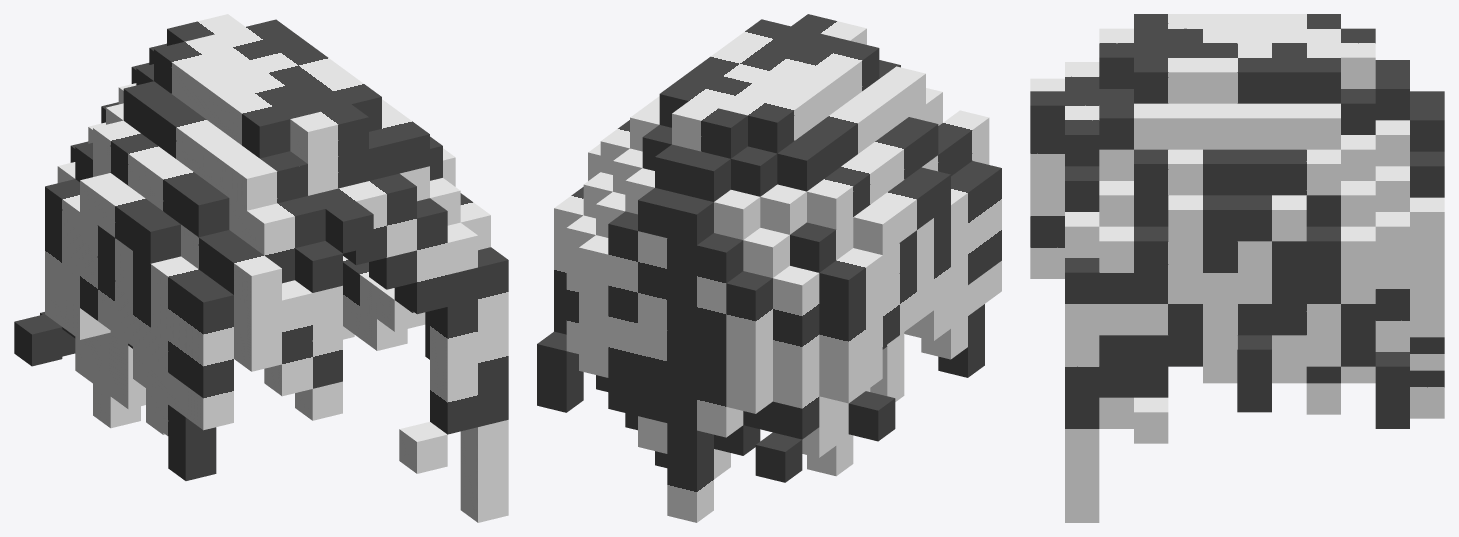
Rendered from wlos10.dae.
3 renders of one model, left to right at view 1: azimuth 30°, elevation 25°; view 2: azimuth 150°, elevation 25°; view 3: azimuth 270°, elevation 25°, orthographic. The views are drawn at different scales.
Visible parts, largest first — view 1: Content; view 2: Content; view 3: Content.
Boxes of the visible parts, box(x1,y1,x2,y2) form: Content: box(14, 14, 508, 522); Content: box(537, 14, 1001, 522); Content: box(1030, 14, 1444, 522).
Bounding box in the file's own units: 12 × 13 × 12.
1 material, 1 textured.
